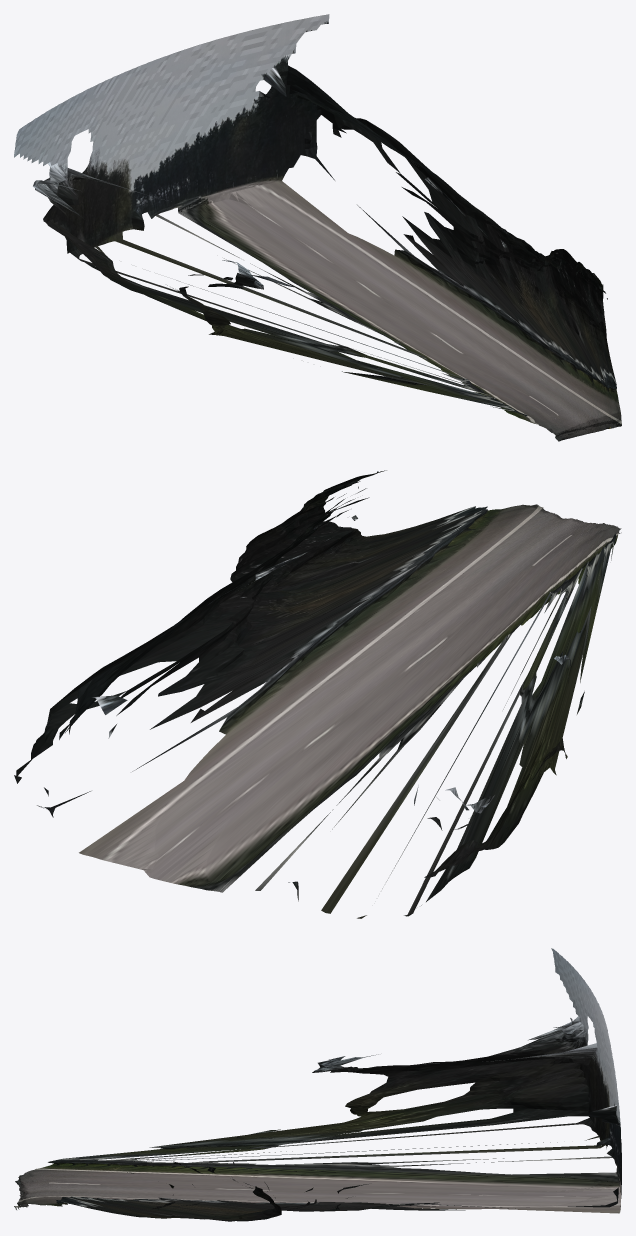
3 renders of one model, top to bottom at view 1: azimuth 30°, elevation 25°; view 2: azimuth 150°, elevation 25°; view 3: azimuth 270°, elevation 25°, orthographic. The views are drawn at different scales.
Visible parts, largest first — view 1: defaultobject; view 2: defaultobject; view 3: defaultobject.
Part boxes in pixels (x1,y1,x2,y2): defaultobject: [14, 14, 621, 441]; defaultobject: [14, 470, 621, 918]; defaultobject: [14, 948, 621, 1221].
Bounding box in the file's own units: 28.83 × 12.66 × 44.57.
Materials: 1 (1 with a texture image).
